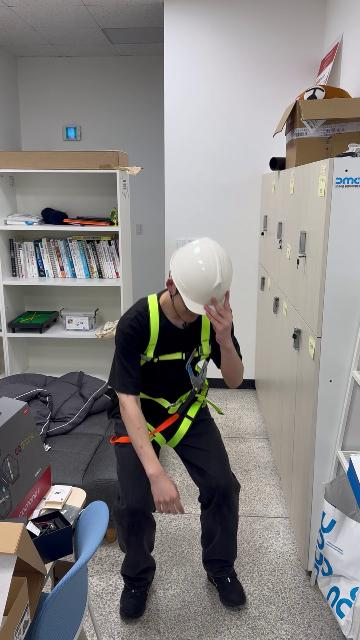helmet_worn: (168, 238, 234, 315)
shoe_worn: (119, 576, 153, 619), (207, 571, 245, 608)
vest_worn: (123, 304, 217, 443)
